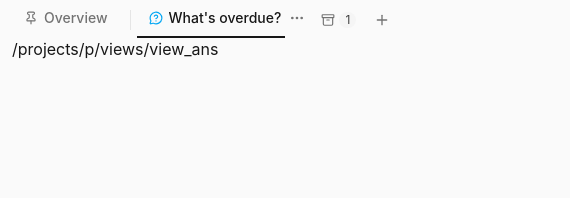
answer menu › dismisses an answer, and offers expired answers in the Archived menu
Click the button named "Options for What's overdue?".
click(297, 18)  # box [285,6,309,30]
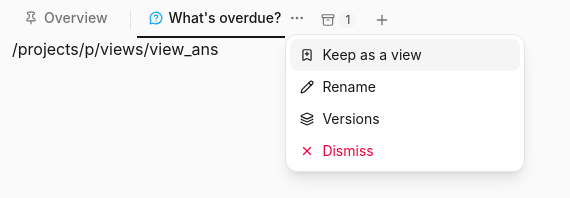
Click the menu item "Dismiss".
click(405, 151)  # box [290,135,520,167]
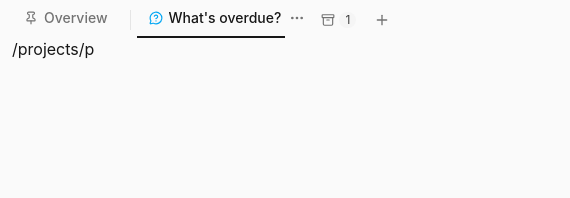
Expected: the text with test id "path" reads "/projects/p", [12,39,94,59]
Click the button named "Archived (1)".
click(339, 20)  # box [313,6,364,34]
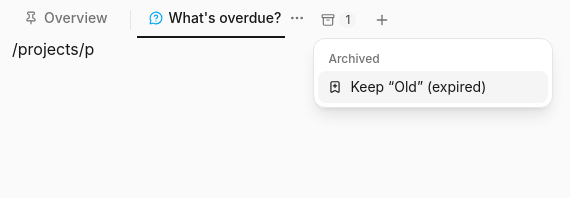
Now the menu item "Keep “Old” (expired)" is shown, box [318,71,548,103]
